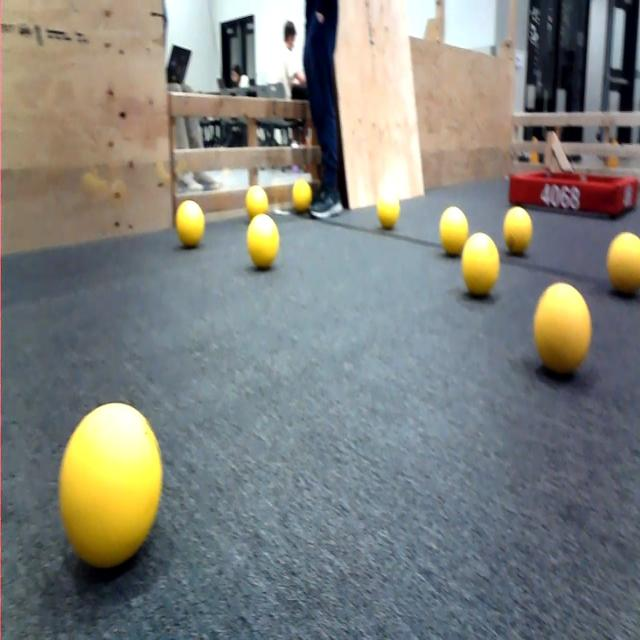fuel: (57, 395, 164, 569), (58, 400, 164, 574), (533, 282, 592, 375), (461, 232, 499, 297), (607, 232, 639, 295), (247, 214, 279, 270), (175, 200, 205, 247), (503, 207, 532, 255), (439, 207, 468, 255), (377, 186, 400, 230), (246, 185, 269, 219), (292, 178, 312, 213)
